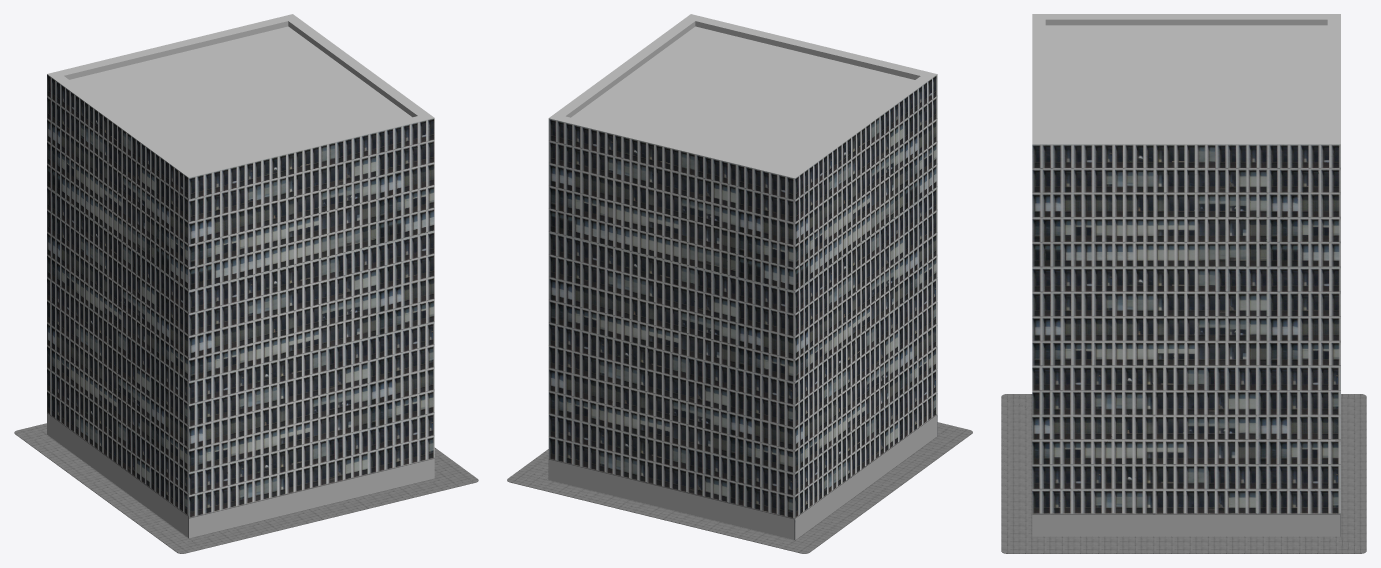
File: Building 3.FBX
3 views of the same model, side by side, from view 1: azimuth 30°, elevation 25°; view 2: azimuth 150°, elevation 25°; view 3: azimuth 270°, elevation 25° (orthographic). The views are drawn at different scales.
Parts seen in each view (by area): view 1: Building 3; view 2: Building 3; view 3: Building 3.
Boxes of the visible parts, bbox=[...] form: Building 3: bbox=[14, 14, 478, 553]; Building 3: bbox=[507, 14, 972, 553]; Building 3: bbox=[1001, 14, 1366, 553].
Size of the model in its own units: 42846 by 49120 by 41408.
2 materials, 2 textured.
